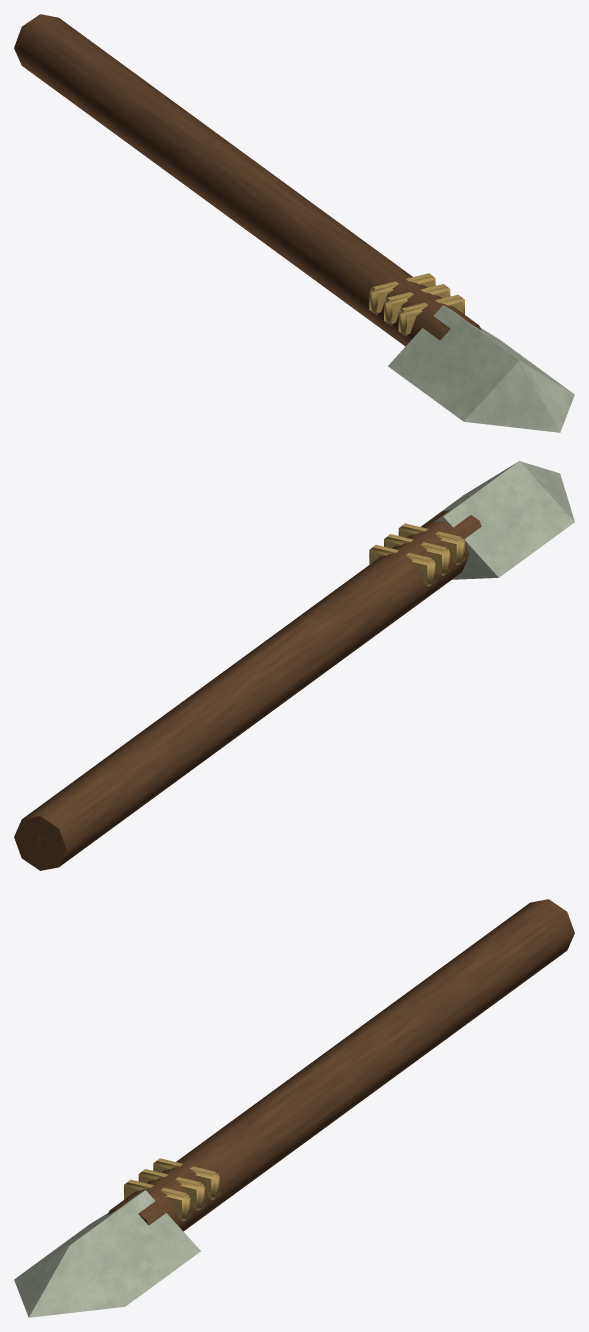
Rendered from item-FirstRootGlaive.fbx.
The picture shows the model from 3 angles, top to bottom: view 1: azimuth 30°, elevation 25°; view 2: azimuth 150°, elevation 25°; view 3: azimuth 330°, elevation 25°; orthographic projection.
Visible parts, largest first — view 1: item-FirstRootGlaive__Geometry; view 2: item-FirstRootGlaive__Geometry; view 3: item-FirstRootGlaive__Geometry.
Boxes of the visible parts, box(x1,y1,x2,y2) form: item-FirstRootGlaive__Geometry: box(14, 14, 574, 432); item-FirstRootGlaive__Geometry: box(14, 461, 574, 870); item-FirstRootGlaive__Geometry: box(14, 899, 574, 1317).
Bounding box in the file's own units: 0.11 × 0.06 × 0.89.
1 material, 1 textured.
